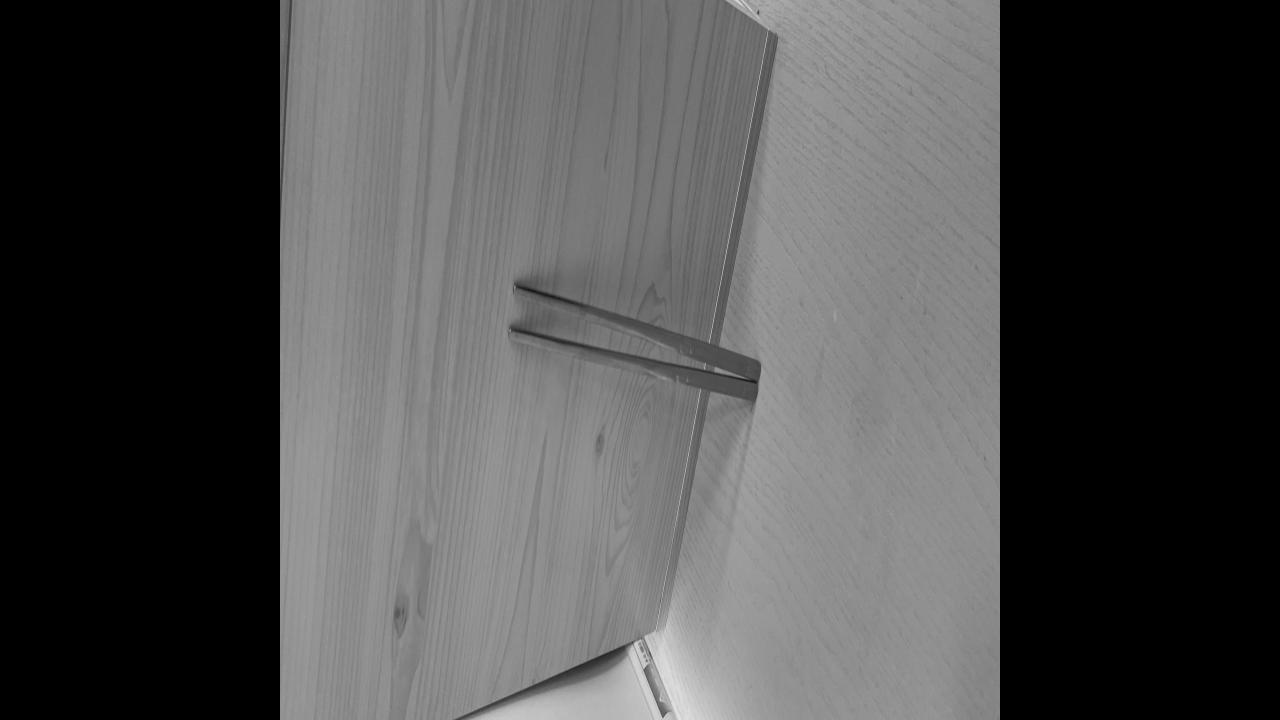chopstick: (511, 275, 760, 413)
